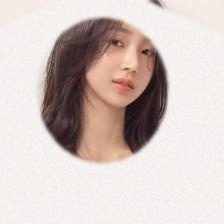Mukena: (0, 14, 214, 224)
